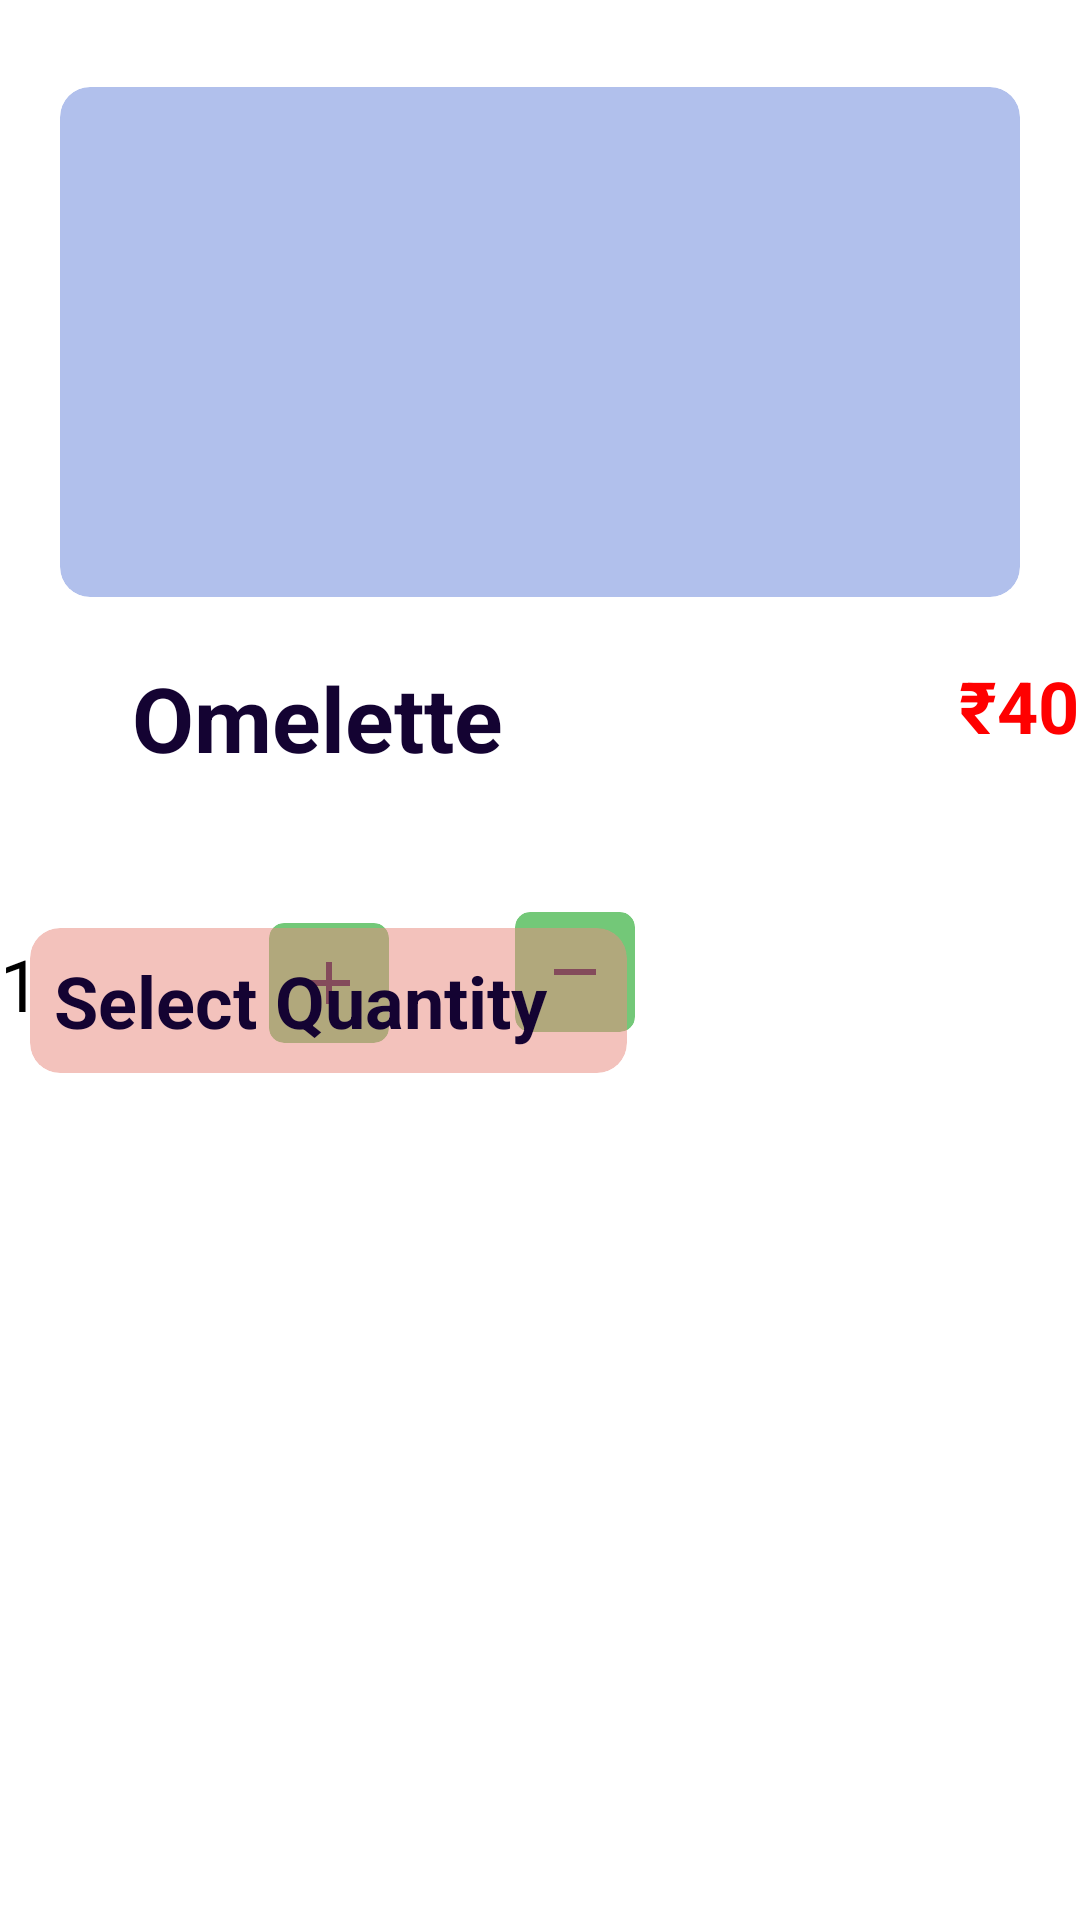

Point at icon controls on the screen. Image size 1080 x 1920, points as (x,y).
remove: (575,972)
